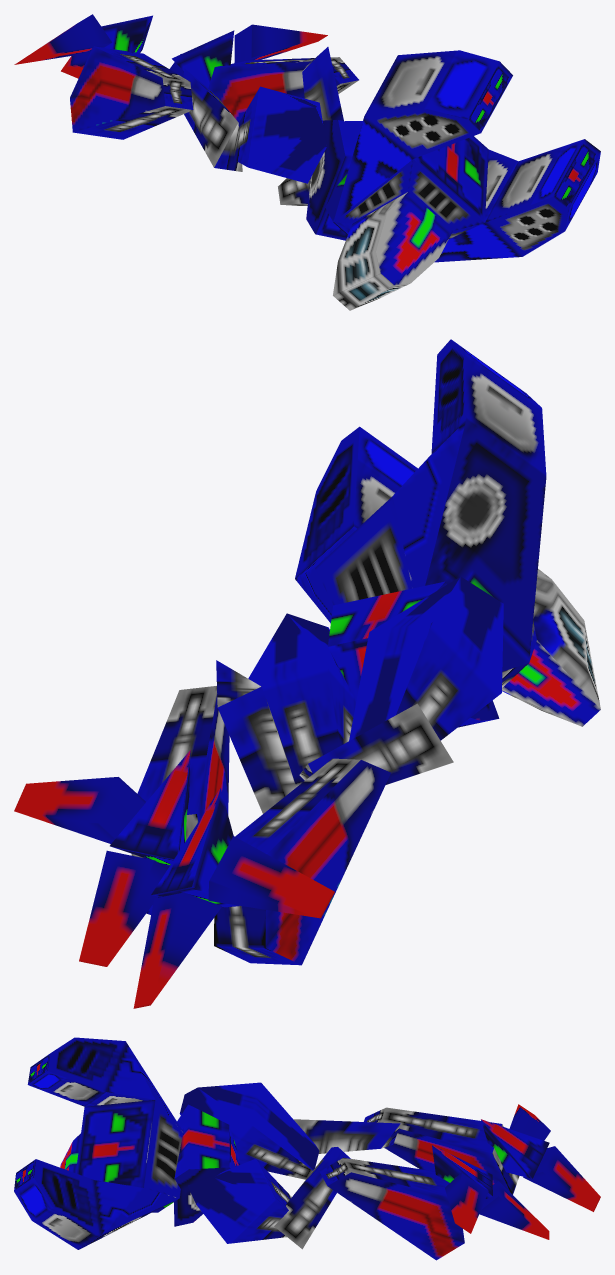
File: anubis_wreck_forward.glb
The picture shows the model from 3 angles, top to bottom: view 1: azimuth 30°, elevation 25°; view 2: azimuth 150°, elevation 25°; view 3: azimuth 270°, elevation 25°; orthographic projection. The views are drawn at different scales.
Visible parts, largest first — view 1: AN_rfoot01; view 2: AN_rfoot01; view 3: AN_rfoot01.
Boxes of the visible parts, bbox=[...] form: AN_rfoot01: bbox=[14, 14, 600, 310]; AN_rfoot01: bbox=[14, 339, 600, 1008]; AN_rfoot01: bbox=[14, 1037, 600, 1260].
Size of the model in its own units: 4.68 by 3.98 by 9.72.
1 material, 1 textured.
